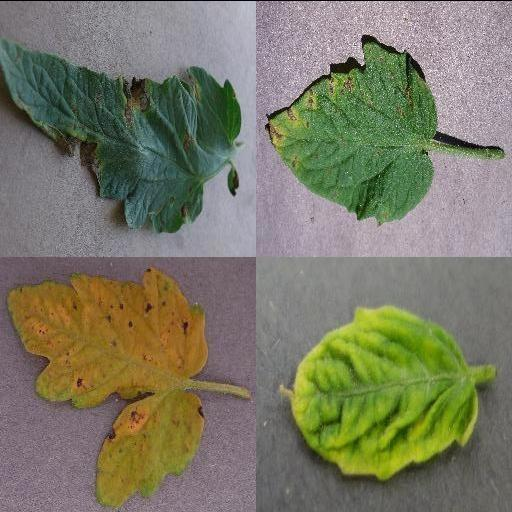Early Blight: (1, 37, 241, 230)
Septoria: (6, 266, 210, 506), (265, 42, 439, 226)
Yellow Leaf Curl Virus: (279, 304, 479, 478)
